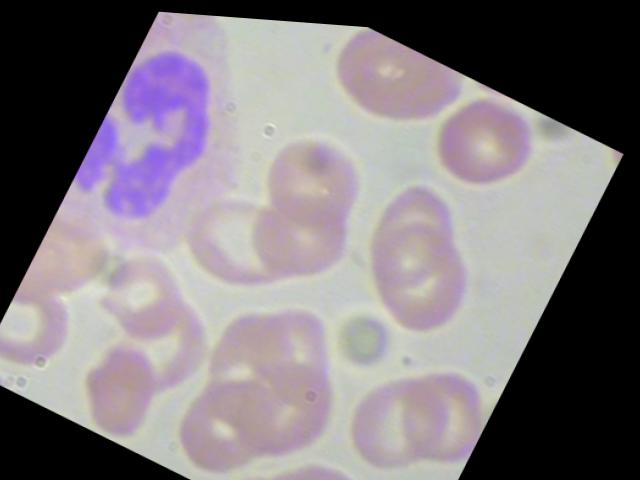Red Blood Cells: (353, 200, 506, 351), (329, 330, 481, 479), (307, 18, 476, 151), (244, 102, 390, 250), (411, 69, 552, 208), (167, 358, 302, 479), (240, 280, 362, 410), (87, 235, 208, 358), (69, 327, 185, 448), (200, 292, 315, 414), (273, 443, 396, 479), (227, 446, 337, 479)
White Blood Cells: (49, 4, 311, 297)
